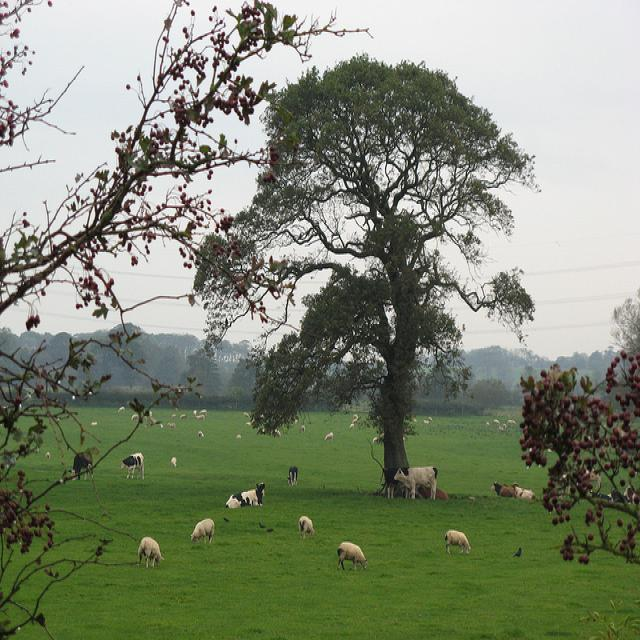cow: (134, 517, 214, 567), (392, 464, 437, 497), (224, 481, 264, 507), (381, 467, 409, 496), (67, 449, 91, 479), (118, 451, 143, 479), (490, 477, 515, 499), (416, 483, 447, 499), (510, 480, 534, 497), (286, 461, 299, 487)
